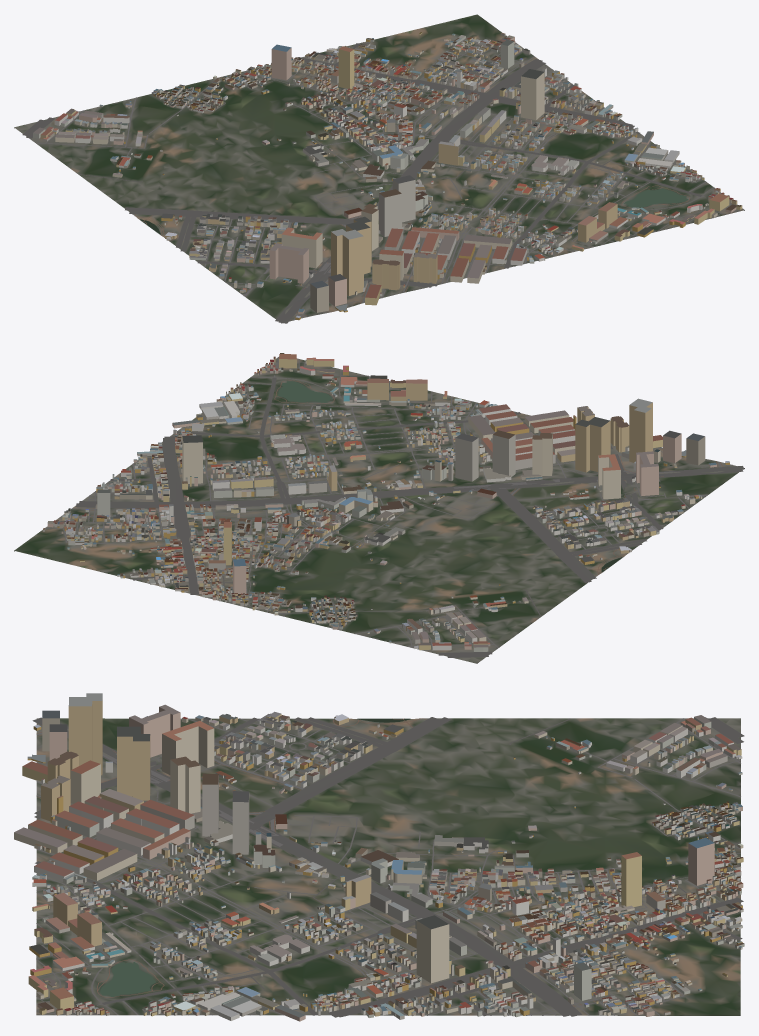
3 views of the same model, one above another, from view 1: azimuth 30°, elevation 25°; view 2: azimuth 150°, elevation 25°; view 3: azimuth 270°, elevation 25° (orthographic). The views are drawn at different scales.
Visible parts, largest first — view 1: ground, buildings, roads, water; view 2: ground, buildings, roads, water; view 3: ground, buildings, roads, water.
Part boxes in pixels (<box>): ground: <box>14,14,744,323</box>; buildings: <box>33,32,742,320</box>; roads: <box>22,37,737,323</box>; water: <box>140,188,687,234</box>; ground: <box>14,356,744,663</box>; buildings: <box>43,353,729,651</box>; roads: <box>45,357,744,657</box>; water: <box>191,381,672,571</box>; ground: <box>36,718,740,1015</box>; buildings: <box>14,693,744,1021</box>; roads: <box>32,717,744,1017</box>; water: <box>100,718,410,1009</box>.
Size of the model in its own units: 1438 by 166 by 1455.
